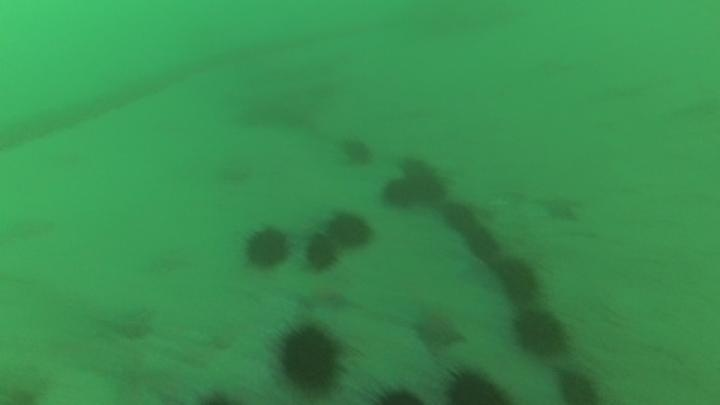echinus: (271, 319, 348, 397), (512, 308, 573, 357), (442, 365, 512, 405), (240, 224, 291, 272), (495, 254, 542, 303), (326, 210, 375, 252), (558, 365, 601, 405), (303, 232, 342, 274), (438, 200, 479, 238), (380, 176, 420, 212), (370, 382, 426, 405), (338, 135, 375, 169), (469, 226, 498, 260), (418, 177, 448, 207), (401, 156, 430, 178)
starfish: (411, 306, 467, 352), (94, 300, 154, 332), (297, 284, 358, 315), (532, 190, 584, 225)
